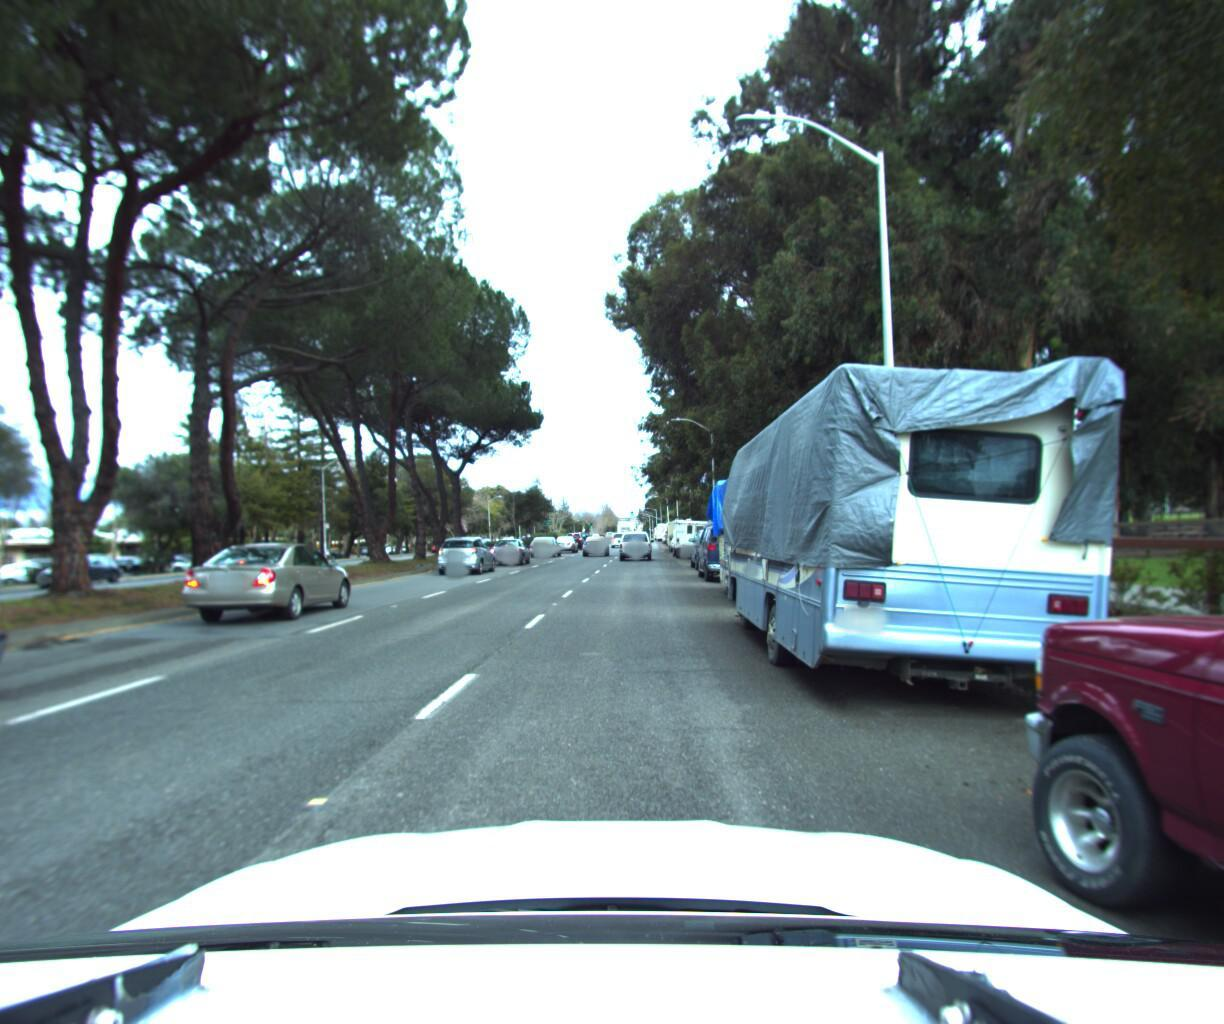car: (167, 531, 363, 627), (0, 451, 35, 922), (694, 502, 777, 582), (34, 551, 132, 591), (433, 528, 501, 574), (689, 519, 745, 566), (488, 530, 536, 565), (614, 523, 653, 557), (524, 532, 562, 556), (579, 527, 609, 550), (547, 532, 582, 550), (564, 527, 587, 547)
other_vehicle: (712, 297, 1183, 722), (703, 439, 874, 607), (669, 511, 716, 555), (665, 515, 696, 546)
